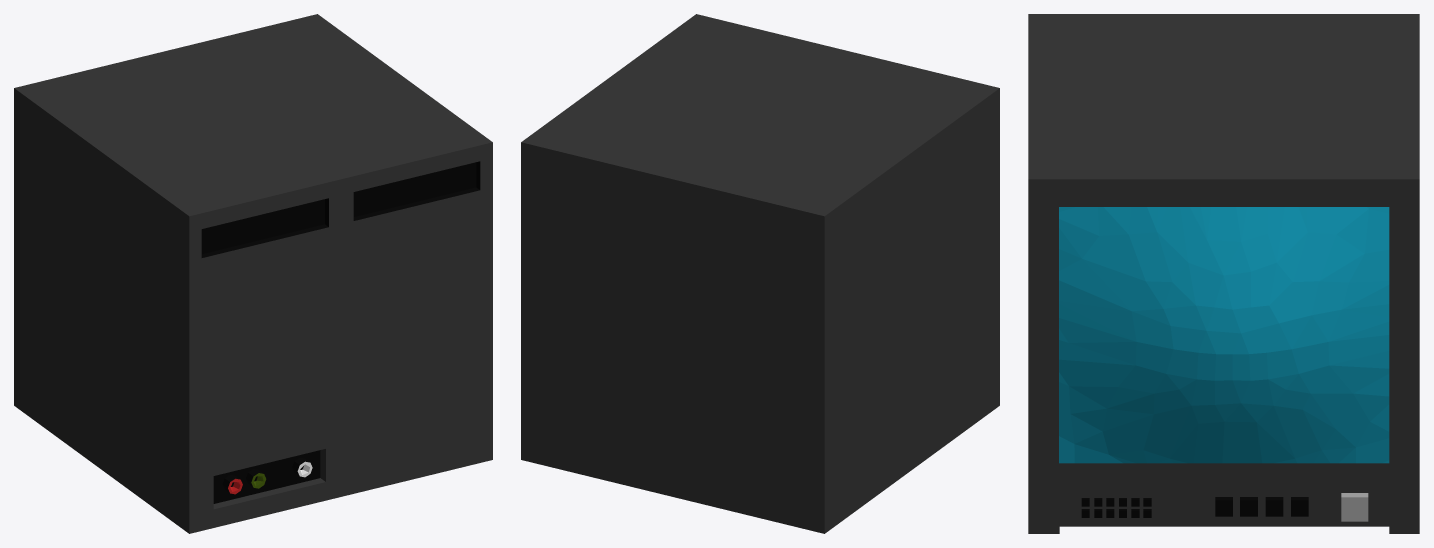
3 views of the same model, side by side, from view 1: azimuth 30°, elevation 25°; view 2: azimuth 150°, elevation 25°; view 3: azimuth 270°, elevation 25° (orthographic). The views are drawn at different scales.
Parts seen in each view (by area): view 1: tv; view 2: tv; view 3: tv.
Boxes of the visible parts, bbox=[...] form: tv: bbox=[14, 14, 492, 533]; tv: bbox=[521, 14, 999, 533]; tv: bbox=[1028, 14, 1419, 533].
Bounding box in the file's own units: 696 × 636 × 637.
